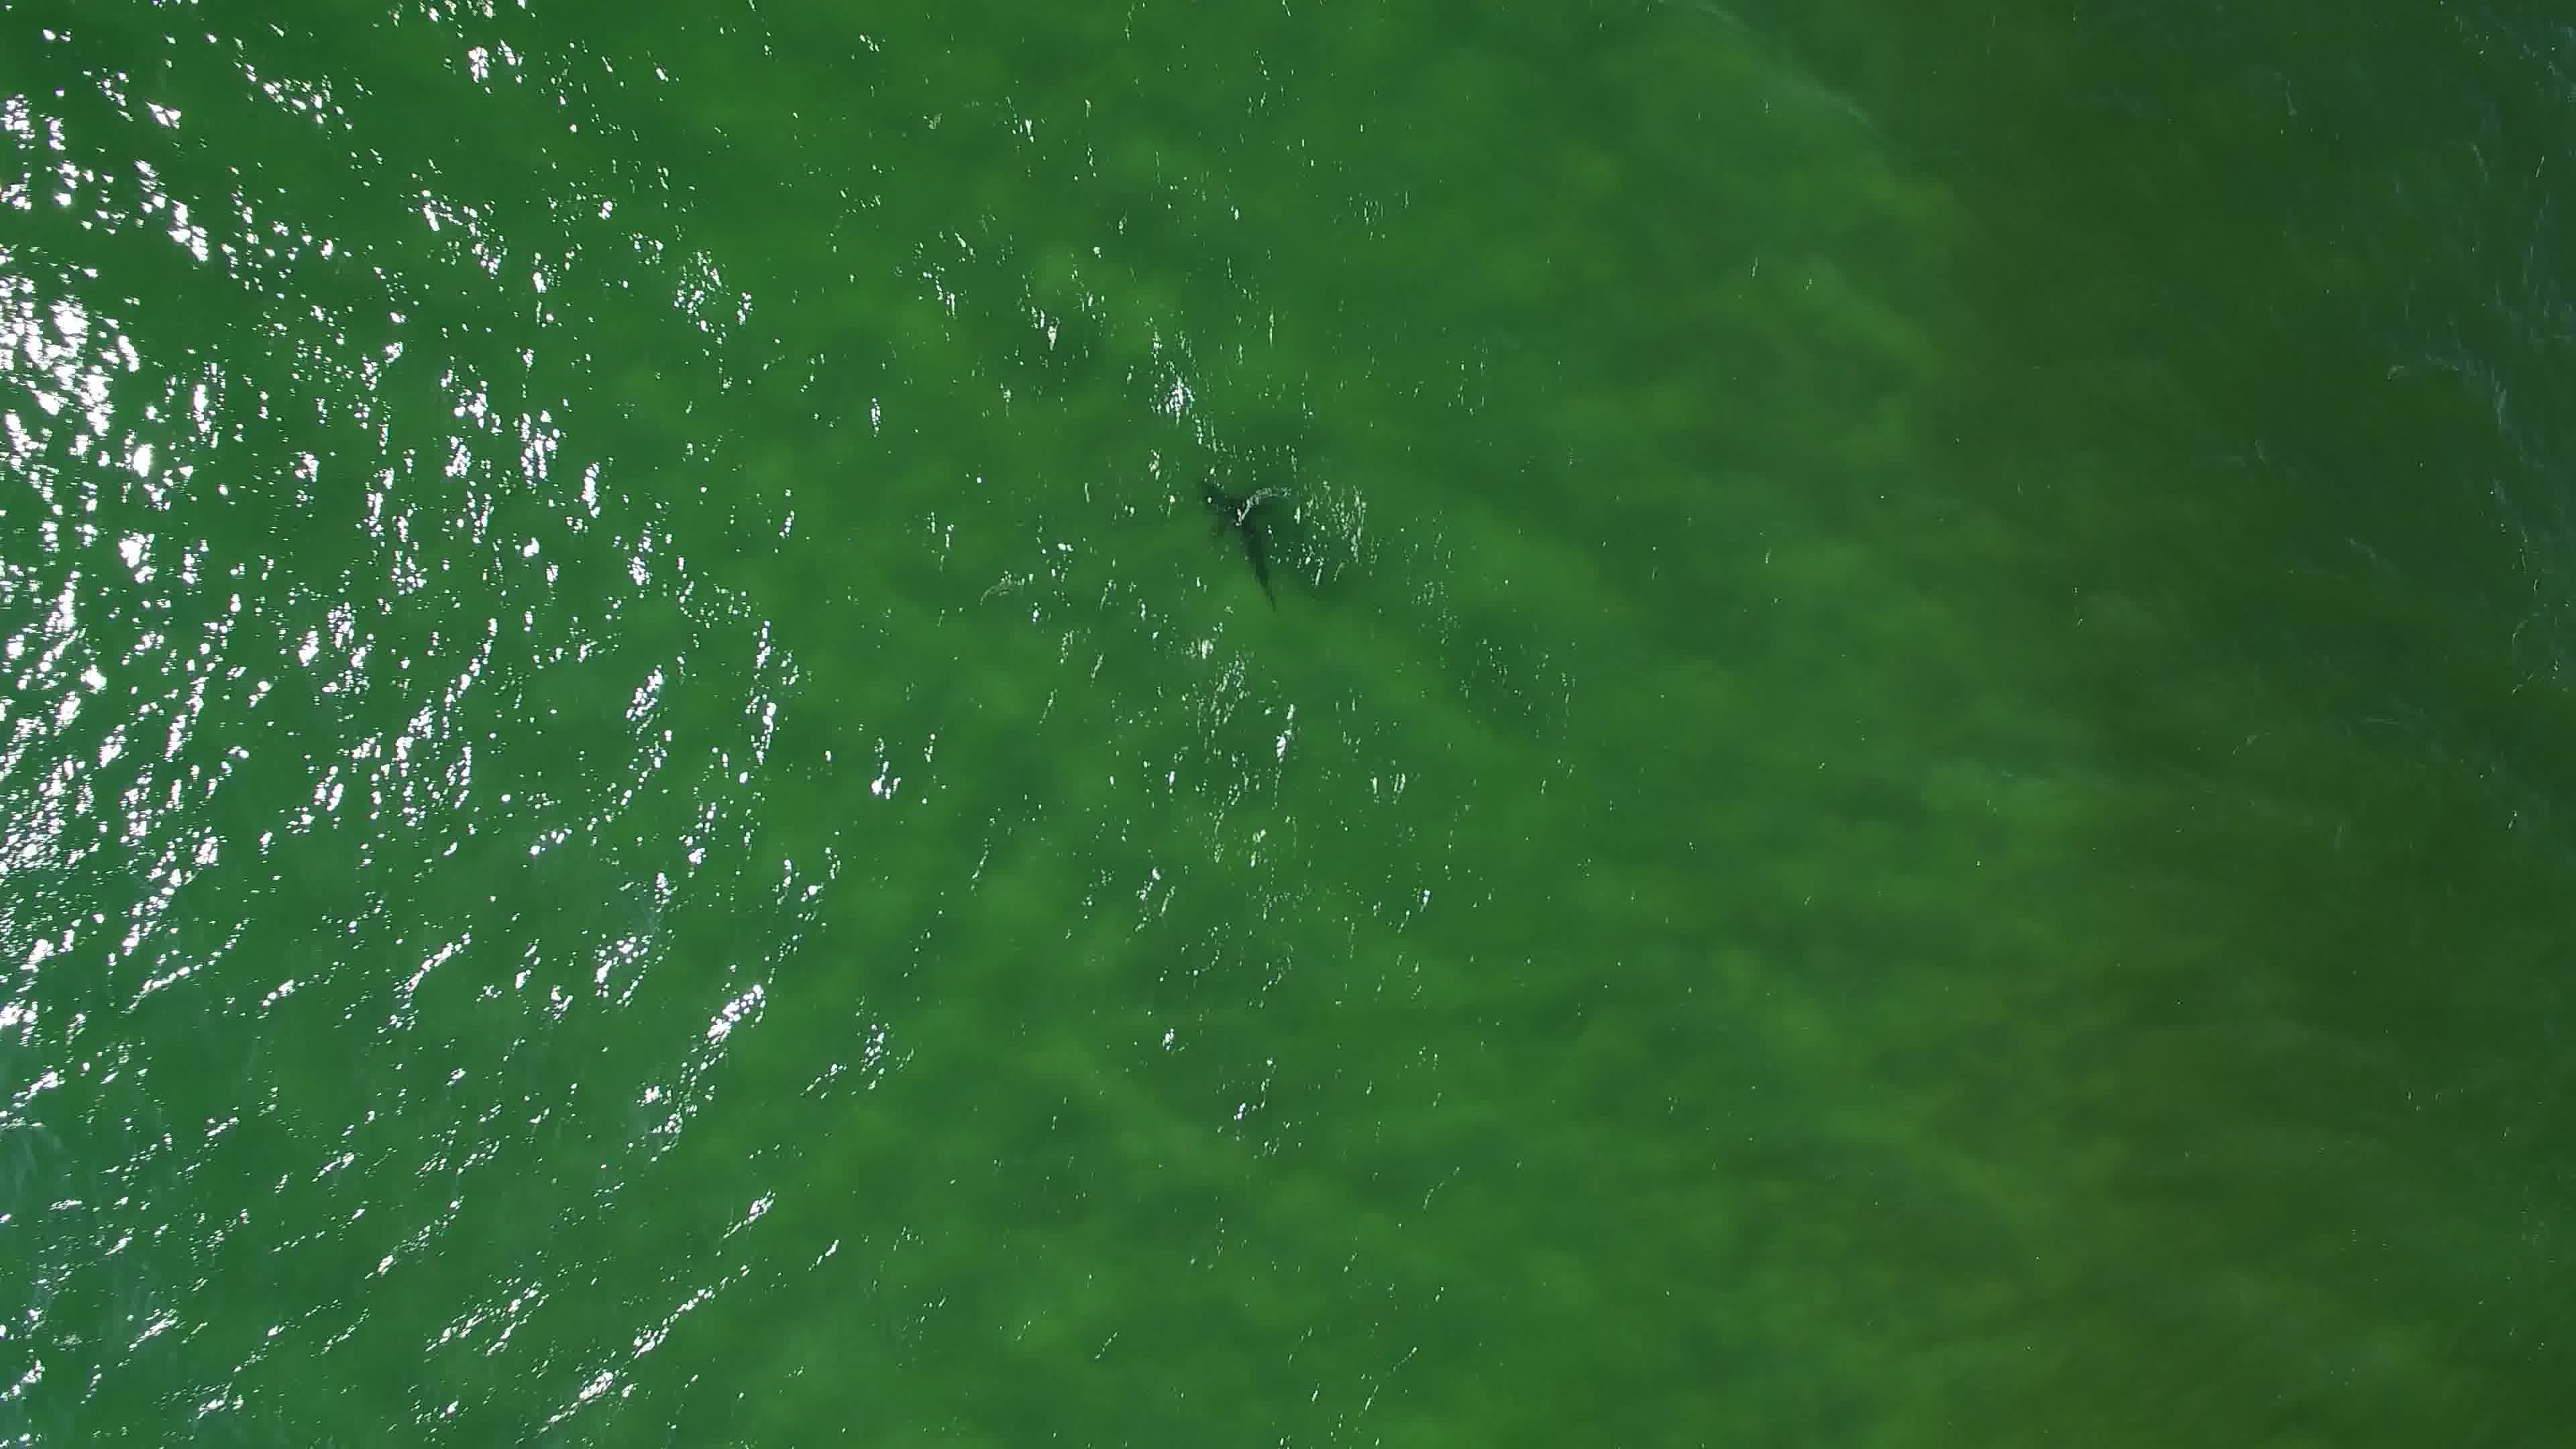shark: (1196, 476, 1293, 619)
